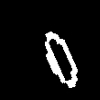chain: (45, 32, 76, 87)
